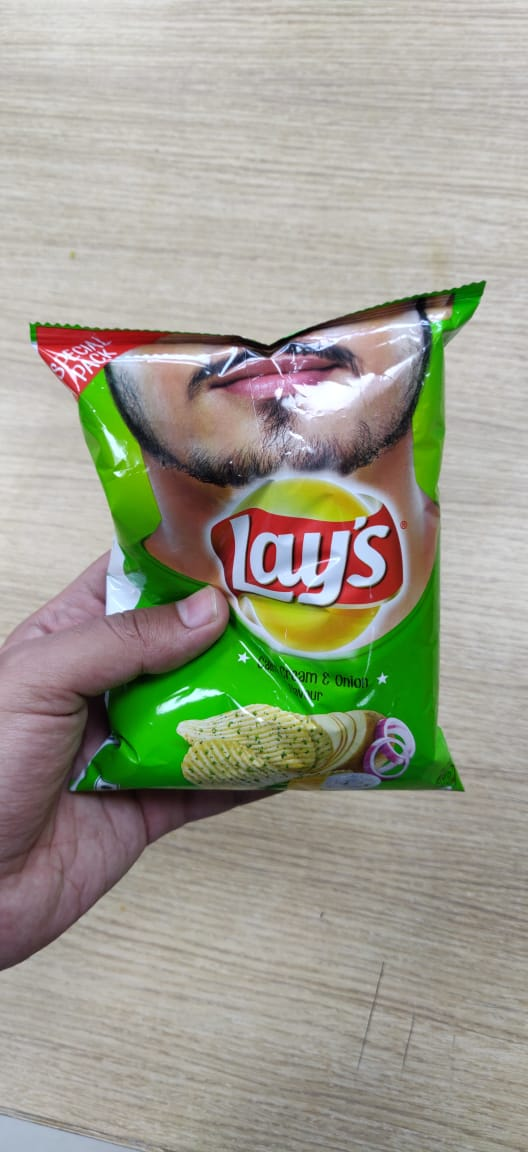lays chips: (29, 270, 505, 832)
